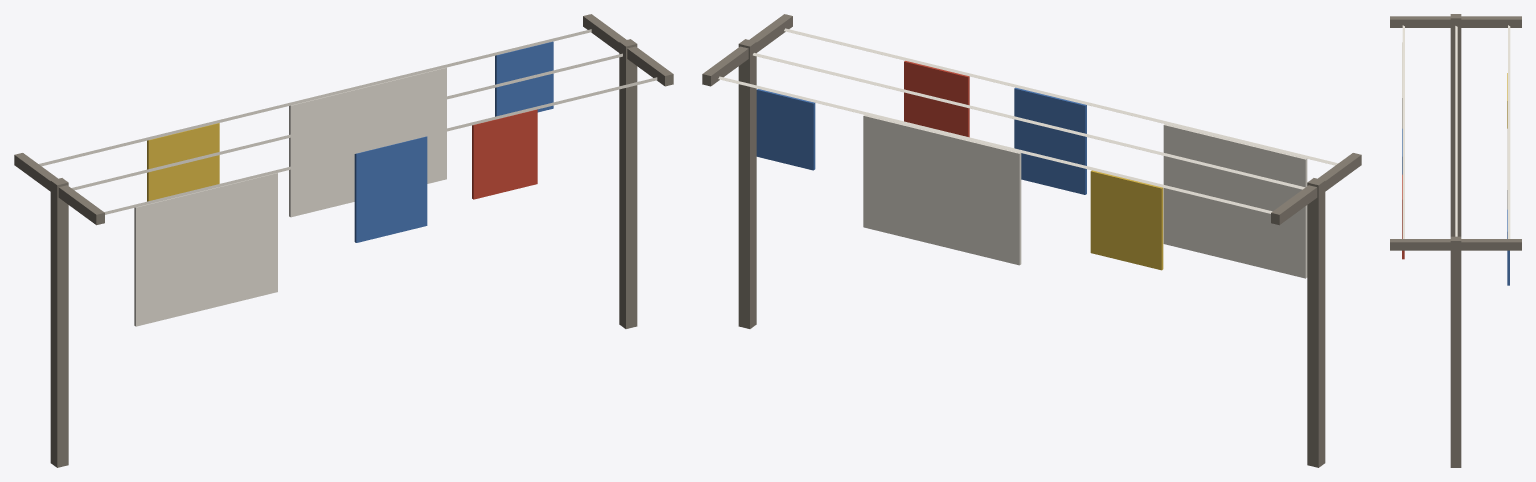
File: tvattlina.glb
The picture shows the model from 3 angles, left to right: view 1: azimuth 30°, elevation 25°; view 2: azimuth 150°, elevation 25°; view 3: azimuth 270°, elevation 25°; orthographic projection. The views are drawn at different scales.
Parts seen in each view (by area): view 1: tvattlina; view 2: tvattlina; view 3: tvattlina.
Boxes of the visible parts, box(x1,y1,x2,y2) form: tvattlina: box(14, 14, 673, 467); tvattlina: box(702, 14, 1361, 467); tvattlina: box(1390, 14, 1521, 467).
Bounding box in the file's own units: 4.08 × 1.9 × 1.
